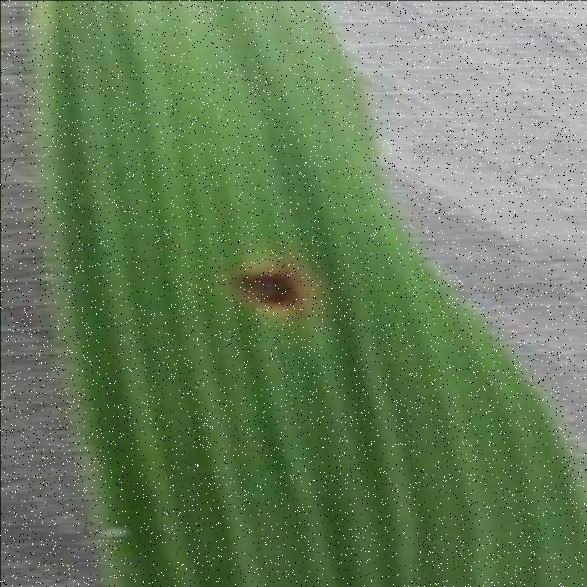Brown_Spot: (213, 250, 317, 320)
